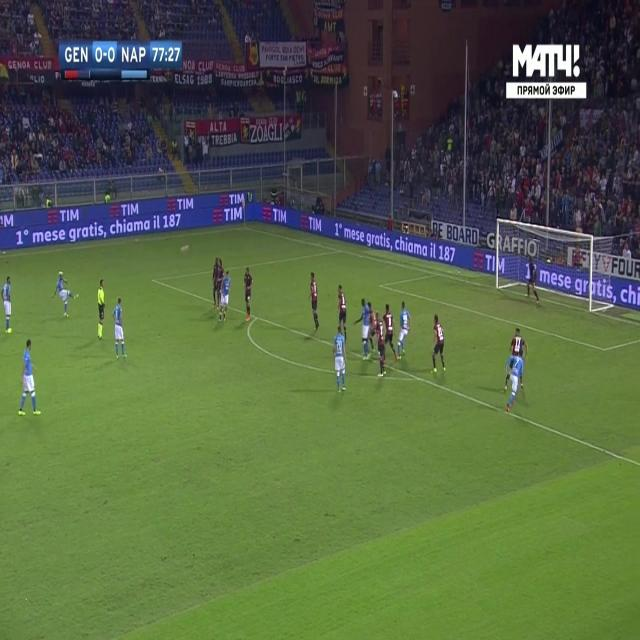Ball: (180, 243, 189, 256)
Goalkeeper: (524, 253, 541, 309)
Player: (16, 338, 41, 418), (50, 270, 81, 323), (503, 352, 526, 416), (352, 296, 373, 362), (112, 295, 130, 363), (332, 326, 349, 398), (396, 298, 414, 364), (382, 302, 400, 364), (372, 313, 387, 379), (308, 273, 323, 338), (431, 313, 445, 377), (1, 272, 14, 340), (218, 270, 232, 326), (243, 265, 256, 324), (336, 281, 350, 333), (508, 324, 528, 360), (210, 253, 218, 312)
Referee: (94, 275, 107, 346)
